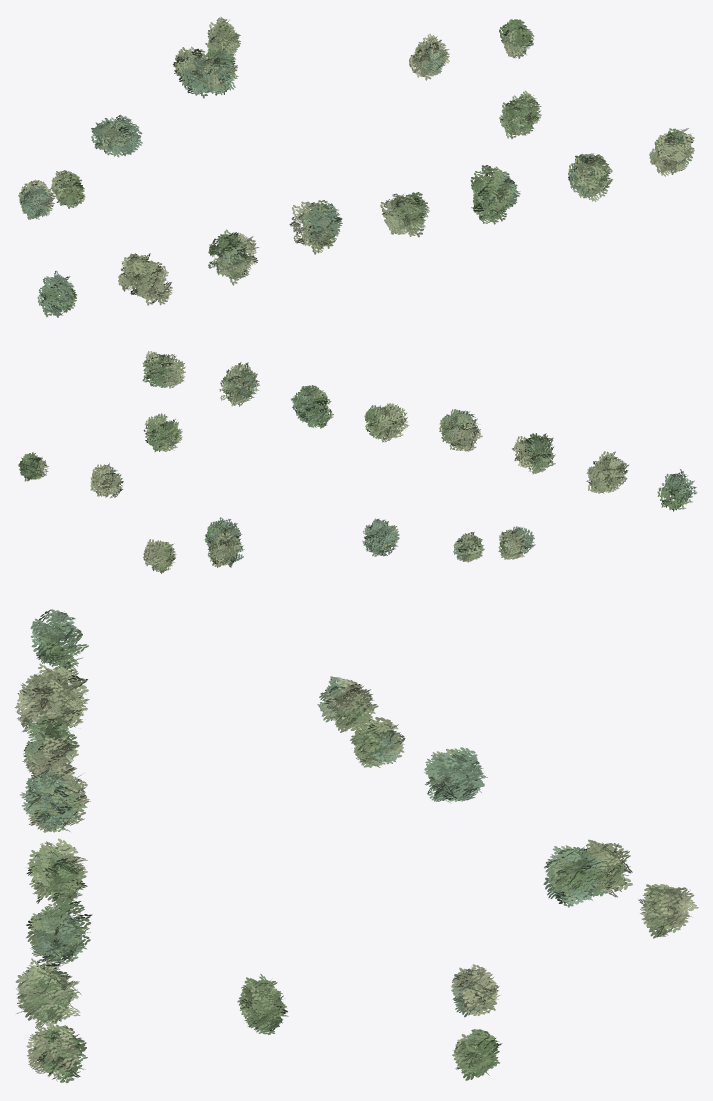
The model's file is campus-tree--4_-1-middle.glb.
3 views of the same model, one above another, from view 1: azimuth 30°, elevation 25°; view 2: azimuth 150°, elevation 25°; view 3: azimuth 270°, elevation 25° (orthographic). The views are drawn at different scales.
Visible parts, largest first — view 1: Campus leaf canopy; view 2: Campus leaf canopy; view 3: Campus leaf canopy.
Boxes of the visible parts, x1=… form: Campus leaf canopy: x1=18, y1=17, x2=694, y2=317; Campus leaf canopy: x1=18, y1=351, x2=697, y2=573; Campus leaf canopy: x1=14, y1=609, x2=698, y2=1083.
Size of the model in its own units: 83.48 by 7.95 by 56.16.
1 material, 1 textured.
